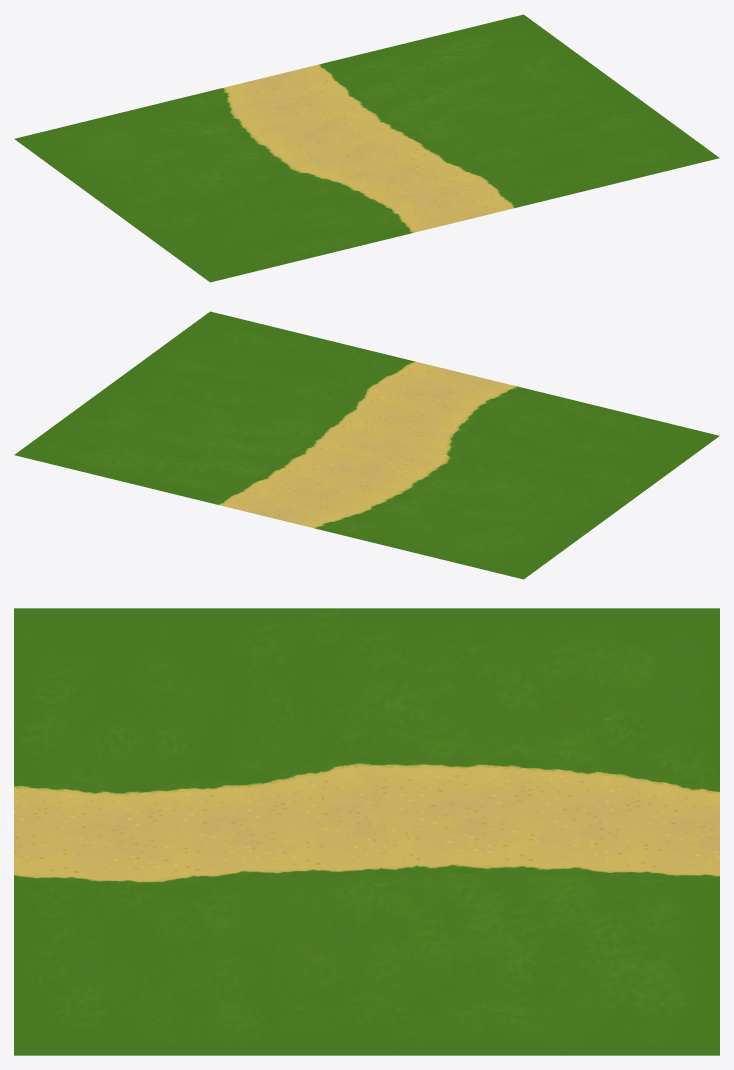
Rendered from path2.dae.
The picture shows the model from 3 angles, top to bottom: view 1: azimuth 30°, elevation 25°; view 2: azimuth 150°, elevation 25°; view 3: azimuth 270°, elevation 25°; orthographic projection. The views are drawn at different scales.
Parts seen in each view (by area): view 1: path12, path9, path11, path8, path7, path10; view 2: path12, path9, path11, path8, path7, path10; view 3: path9, path12, path11, path8, path7, path10.
Boxes of the visible parts, bbox=[...] form: path12: bbox=[14, 14, 568, 155]; path9: bbox=[122, 76, 648, 238]; path11: bbox=[37, 47, 607, 176]; path8: bbox=[150, 106, 677, 265]; path7: bbox=[187, 127, 719, 282]; path10: bbox=[65, 77, 604, 217]; path12: bbox=[14, 422, 545, 579]; path9: bbox=[99, 363, 658, 499]; path11: bbox=[59, 393, 574, 562]; path8: bbox=[140, 342, 696, 479]; path7: bbox=[169, 311, 719, 452]; path10: bbox=[100, 393, 631, 541]; path9: bbox=[231, 608, 415, 1055]; path12: bbox=[558, 608, 719, 1055]; path11: bbox=[416, 608, 638, 1055]; path8: bbox=[96, 608, 268, 1055]; path7: bbox=[14, 608, 163, 1055]; path10: bbox=[330, 608, 535, 1054].
Size of the model in its own units: 72 by 1e-06 by 48.
Materials: 2 (2 with a texture image).
